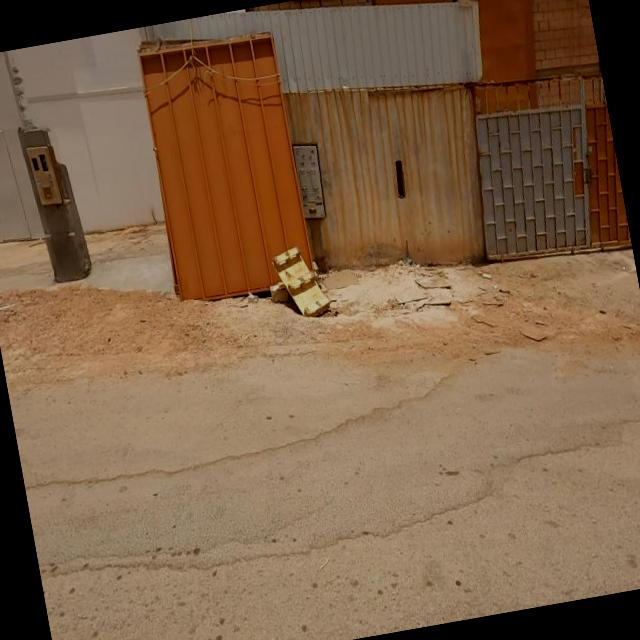debris: (208, 163, 368, 393), (366, 235, 480, 348)
